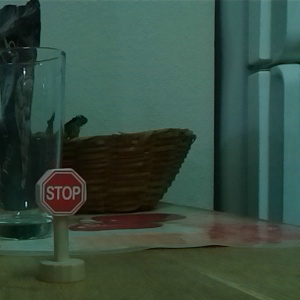stop sign: (28, 165, 93, 285)
